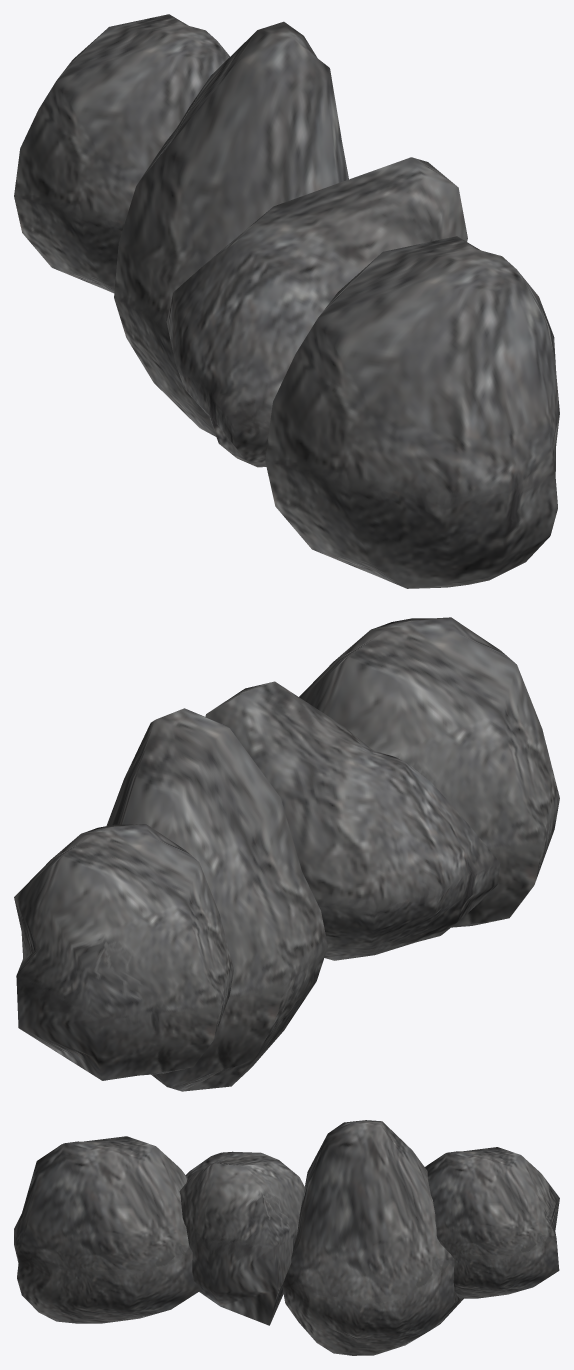
The model's file is Blocker_Rocks_01.dae.
3 renders of one model, top to bottom at view 1: azimuth 30°, elevation 25°; view 2: azimuth 150°, elevation 25°; view 3: azimuth 270°, elevation 25°, orthographic. The views are drawn at different scales.
Visible parts, largest first — view 1: Breakable_Wall; view 2: Breakable_Wall; view 3: Breakable_Wall.
Boxes of the visible parts, x1,y1,x2,y2 form: Breakable_Wall: (14,14,559,588); Breakable_Wall: (14,617,559,1091); Breakable_Wall: (14,1120,559,1355).
Bounding box in the file's own units: 477 × 597 × 1217.
